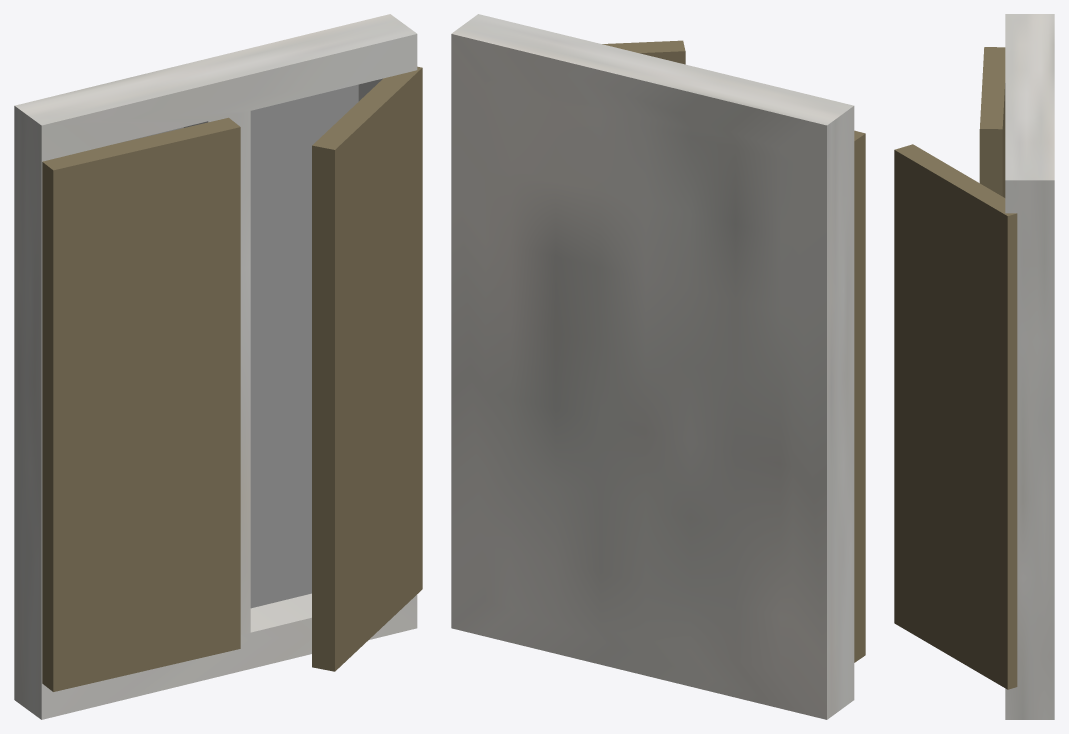
Rendered from obj_window_y1.fbx.
3 renders of one model, left to right at view 1: azimuth 30°, elevation 25°; view 2: azimuth 150°, elevation 25°; view 3: azimuth 270°, elevation 25°, orthographic. The views are drawn at different scales.
Visible parts, largest first — view 1: obj_window_y1; view 2: obj_window_y1; view 3: obj_window_y1.
Boxes of the visible parts, <box> form: obj_window_y1: <box>14,14,422,719</box>; obj_window_y1: <box>451,14,865,719</box>; obj_window_y1: <box>894,14,1054,719</box>.
Bounding box in the file's own units: 1.02 × 1.51 × 0.4069.
Materials: 2 (1 with a texture image).
